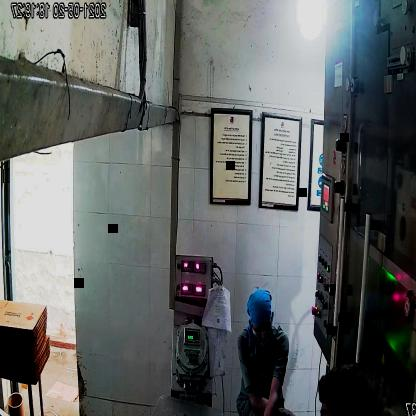goggles: (250, 315, 273, 340)
